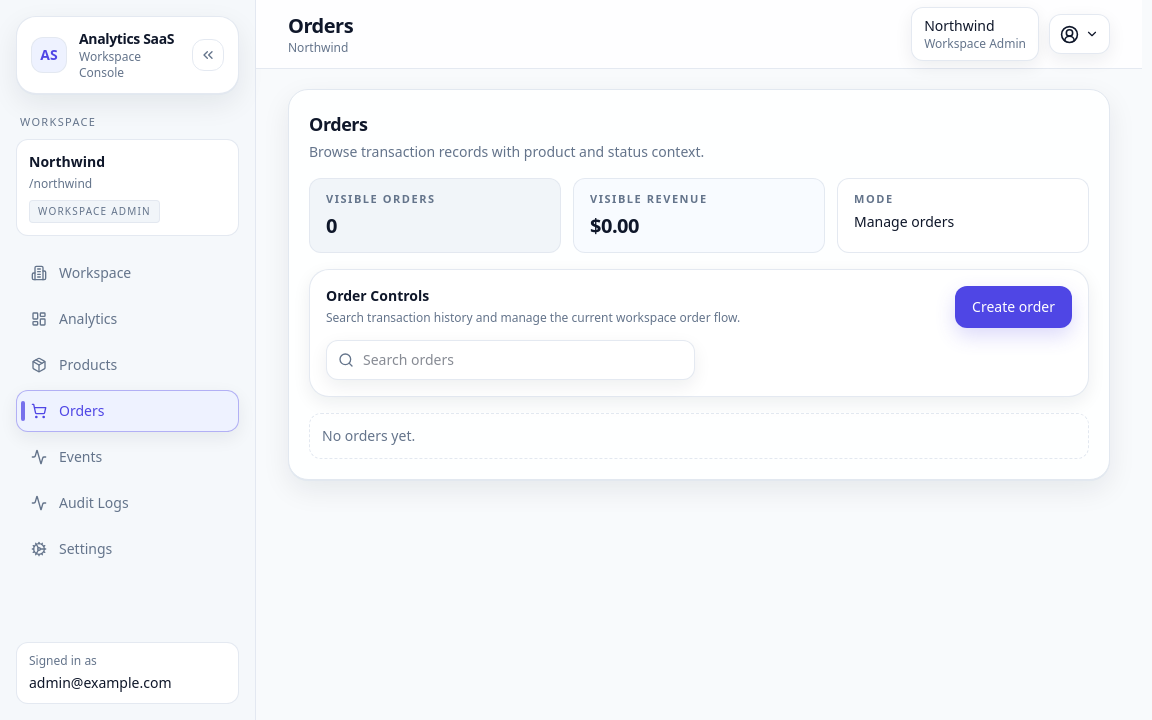
Test: App browser-level integration flows › creates an order through the real app flow and refreshes the table
Expected: the text "No orders yet." is shown, [322,426,415,444]
Click the button "Create order": [1014, 306] box [955,286,1072,328]
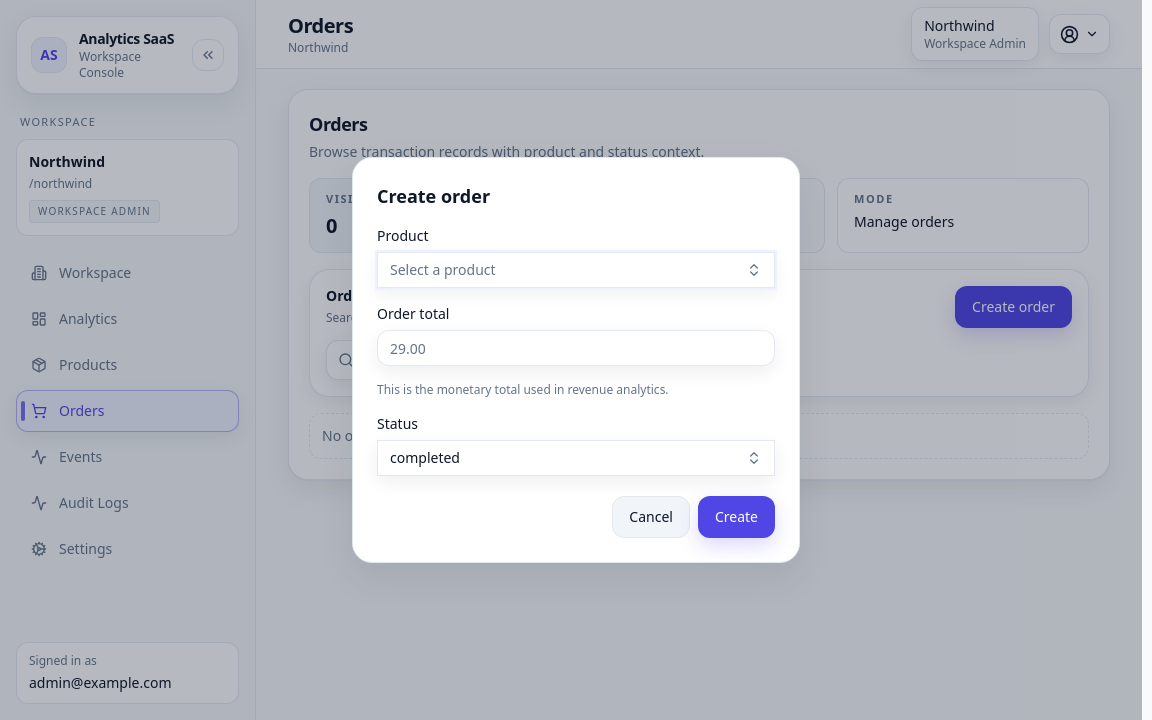
Click the button "Select a product": [443, 270] box [377,252,775,288]
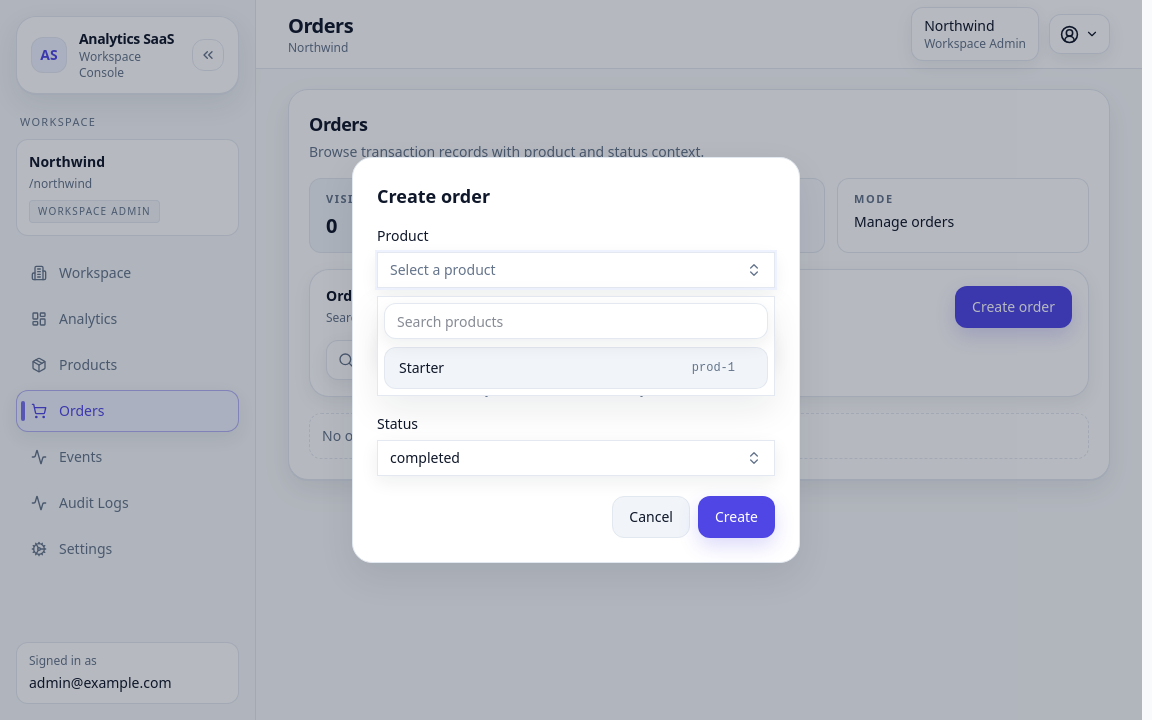
Now the field with placeholder "Search products" is shown, box [384,303,768,339]
Click the text "Starter": [422, 368] box [399,358,444,378]
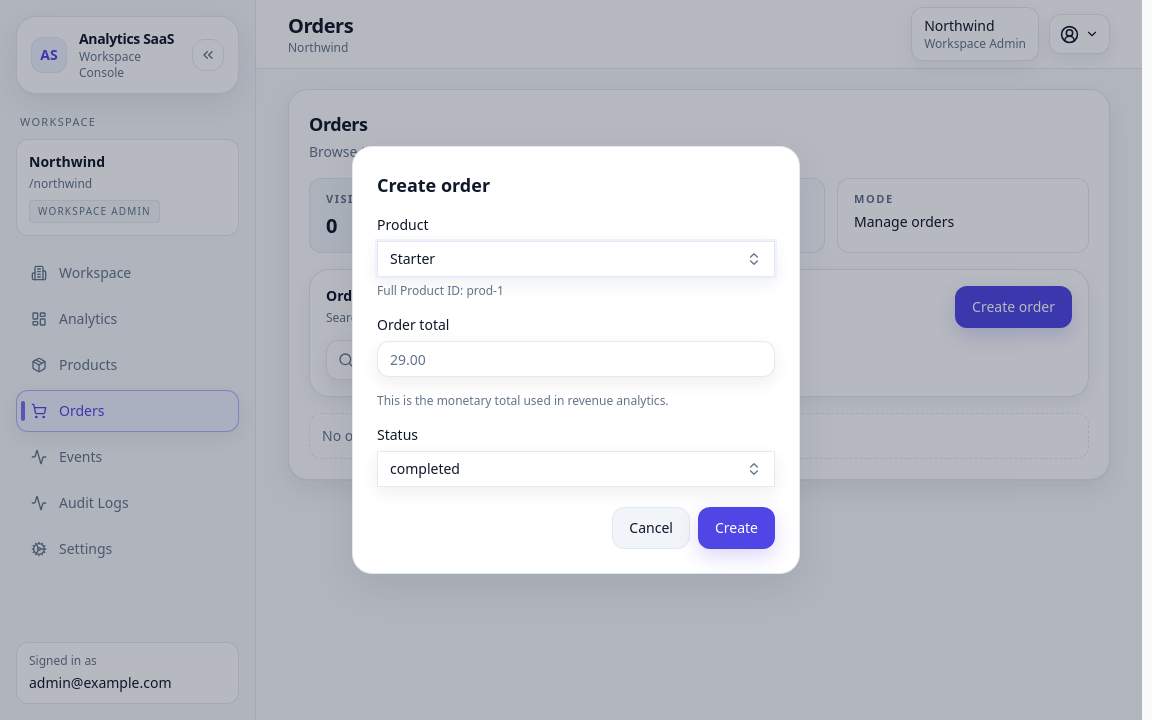
In the number field labelled "Order total": [576, 359] box [377,341,775,377], type "49"
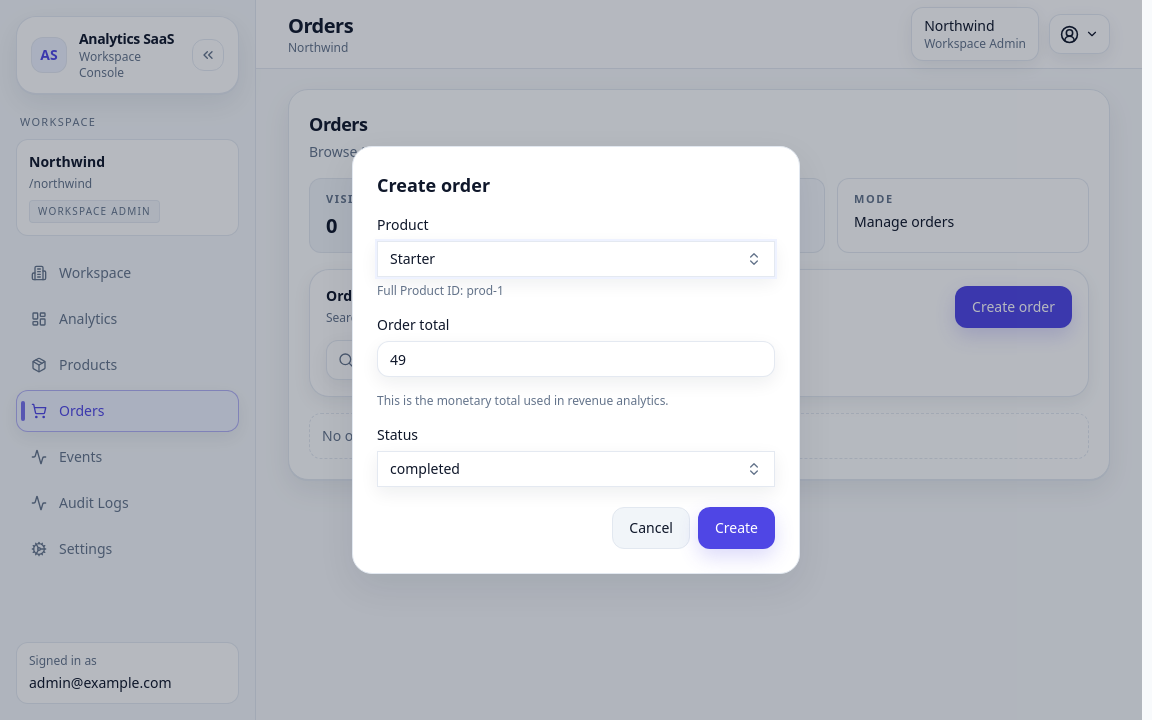
Click the button "Create": [736, 528] box [698,507,775,549]
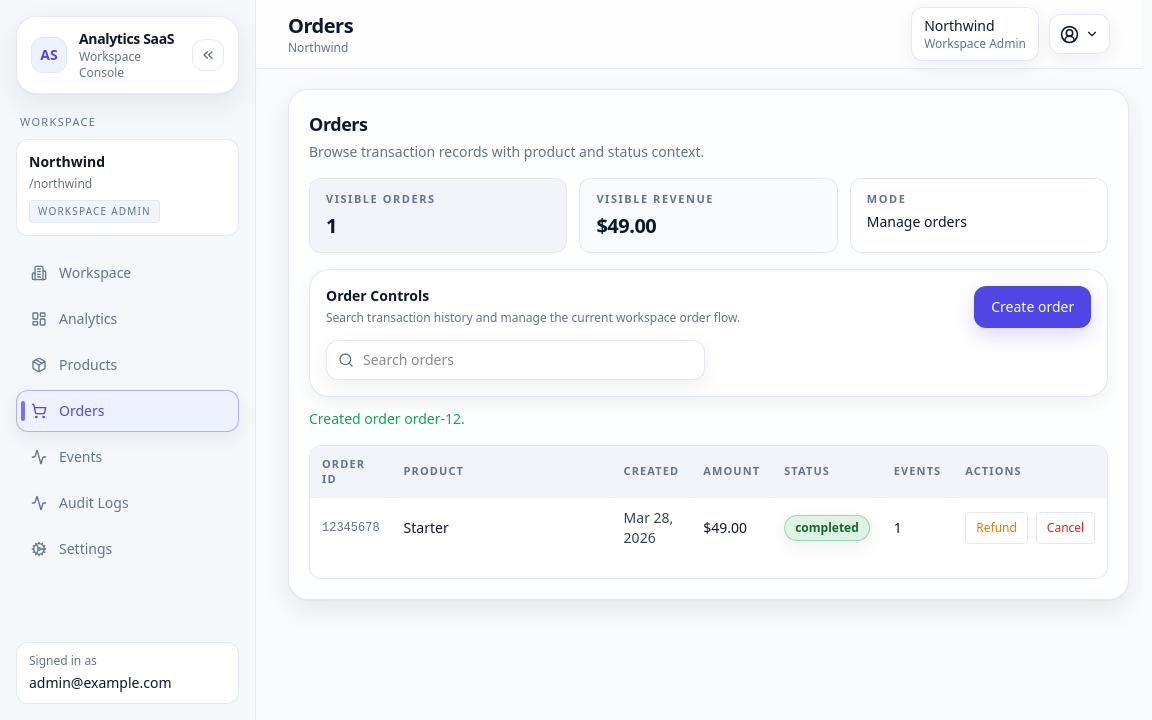
Now the dialog is gone
